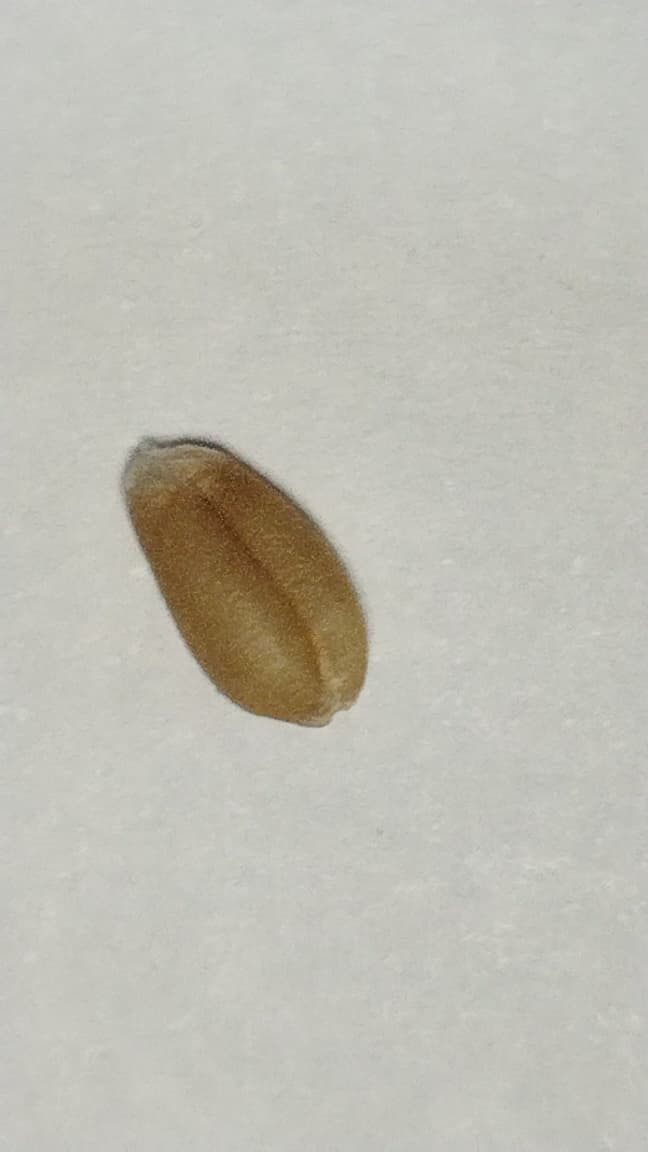healthy: (126, 439, 365, 722)
